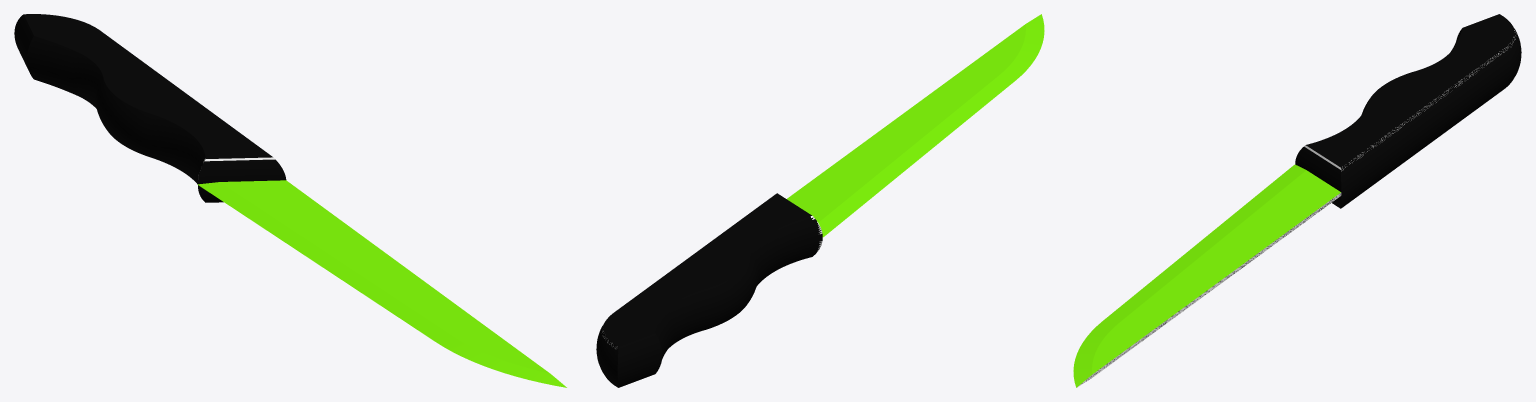
The model's file is knife_05_origin_gt_2.dae.
The picture shows the model from 3 angles, left to right: view 1: azimuth 30°, elevation 25°; view 2: azimuth 150°, elevation 25°; view 3: azimuth 330°, elevation 25°; orthographic projection. The views are drawn at different scales.
Parts seen in each view (by area): view 1: Group_4 (×2); view 2: Group_4 (×2); view 3: Group_4 (×5).
Part boxes in pixels (<box>): Group_4 (×2): <box>14,14,566,387</box>; Group_4 (×2): <box>596,14,1044,387</box>; Group_4 (×5): <box>1073,14,1521,387</box>.
Bounding box in the file's own units: 0.7839 × 9.83 × 0.4724.
Materials: 6 (1 with a texture image).
